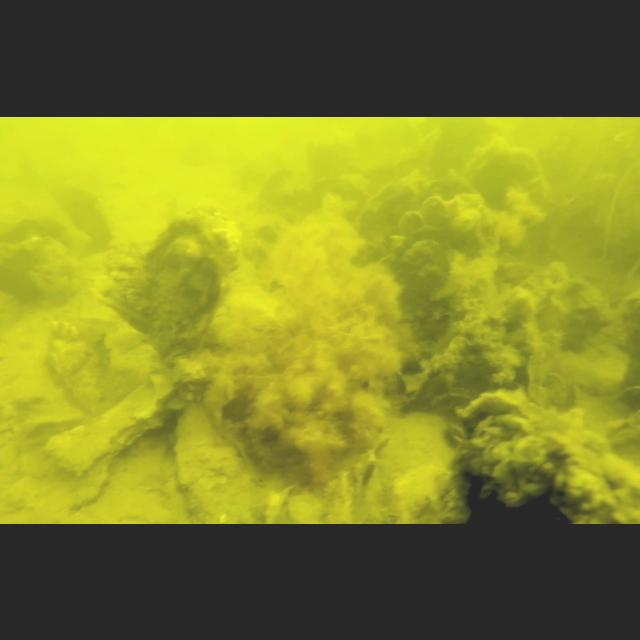Oyster-Closed: (148, 207, 240, 367), (44, 370, 178, 478), (491, 432, 615, 524), (175, 402, 267, 524), (463, 135, 549, 251), (358, 168, 480, 244), (48, 317, 110, 415), (92, 238, 152, 336), (398, 196, 488, 258), (48, 179, 114, 243)
Oyster-Open: (453, 385, 533, 523), (393, 224, 457, 342), (0, 214, 80, 306), (240, 216, 292, 294)
